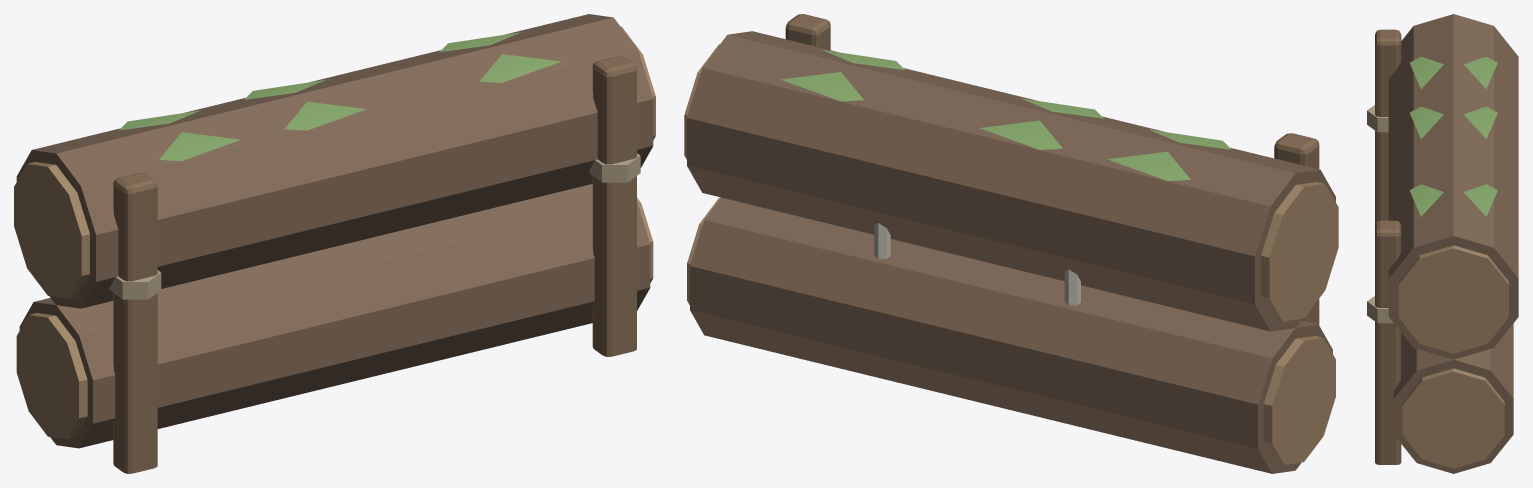
The model's file is rn2-floresta-barrier.glb.
The picture shows the model from 3 angles, left to right: view 1: azimuth 30°, elevation 25°; view 2: azimuth 150°, elevation 25°; view 3: azimuth 270°, elevation 25°; orthographic projection. The views are drawn at different scales.
Parts seen in each view (by area): view 1: rn2_floresta_barrier_body; view 2: rn2_floresta_barrier_body; view 3: rn2_floresta_barrier_body.
Boxes of the visible parts, bbox=[...] form: rn2_floresta_barrier_body: bbox=[14, 14, 655, 473]; rn2_floresta_barrier_body: bbox=[684, 14, 1338, 473]; rn2_floresta_barrier_body: bbox=[1367, 14, 1518, 473].
Size of the model in its own units: 2.06 by 1 by 0.5781.
